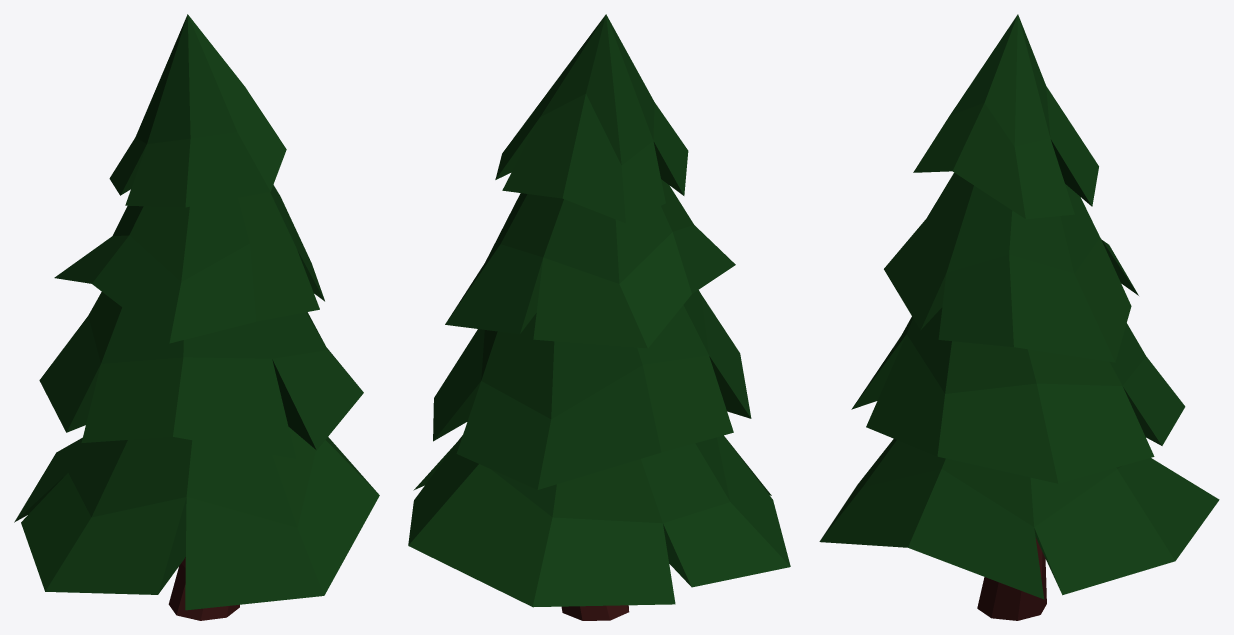
Rendered from bigTree.glb.
3 views of the same model, side by side, from view 1: azimuth 30°, elevation 25°; view 2: azimuth 150°, elevation 25°; view 3: azimuth 270°, elevation 25° (orthographic). The views are drawn at different scales.
Visible parts, largest first — view 1: conifer1_Cylinder.003; view 2: conifer1_Cylinder.003; view 3: conifer1_Cylinder.003.
Part boxes in pixels (<box>): conifer1_Cylinder.003: <box>14,14,379,620</box>; conifer1_Cylinder.003: <box>408,14,790,620</box>; conifer1_Cylinder.003: <box>819,14,1219,620</box>.
Bounding box in the file's own units: 8.8 × 14.64 × 9.07.
